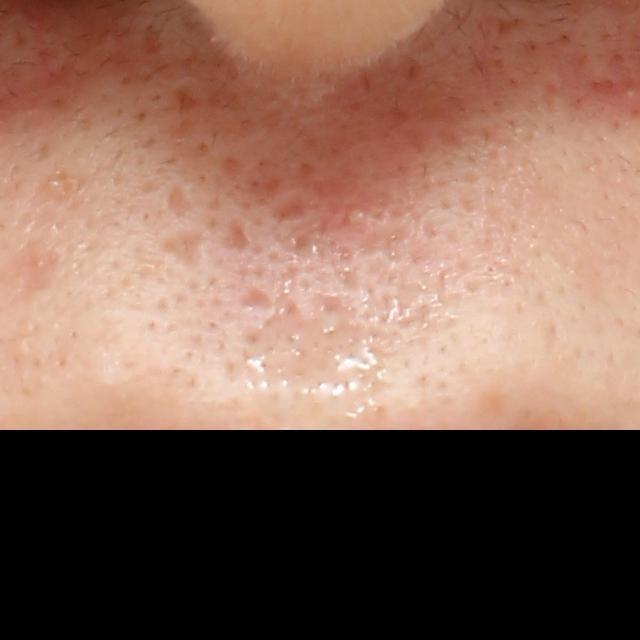atrophic_scar: (146, 227, 210, 272), (232, 285, 283, 317), (221, 213, 257, 257), (263, 190, 311, 222), (164, 181, 195, 220)
